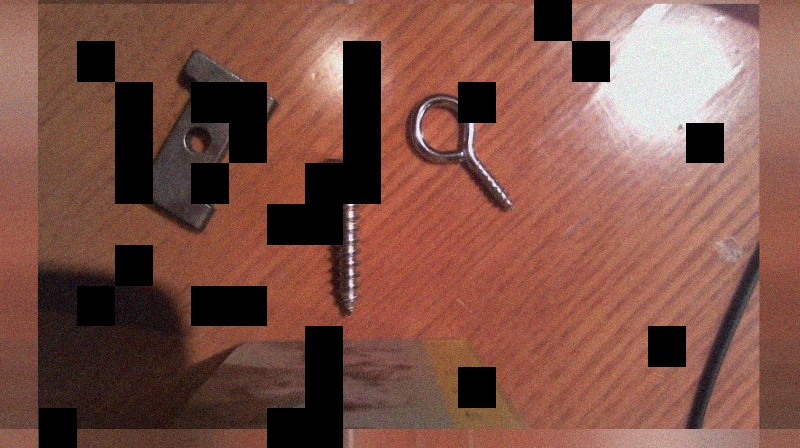O001: (404, 91, 517, 217)
O002: (113, 48, 277, 235)
S001: (320, 151, 376, 318)
